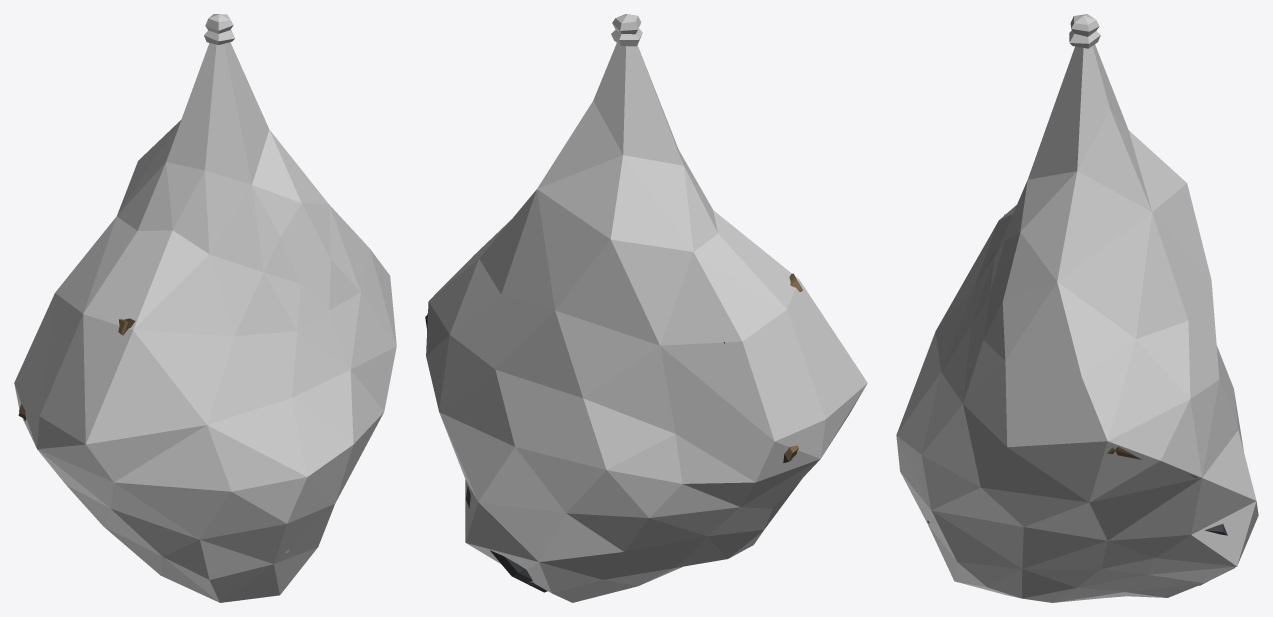
Rendered from SM_Prop_Net_06.fbx.
3 views of the same model, side by side, from view 1: azimuth 30°, elevation 25°; view 2: azimuth 150°, elevation 25°; view 3: azimuth 270°, elevation 25° (orthographic). The views are drawn at different scales.
Parts seen in each view (by area): view 1: SM_Prop_Net_06; view 2: SM_Prop_Net_06; view 3: SM_Prop_Net_06.
Part boxes in pixels (left/top/right/bottom): SM_Prop_Net_06: left=14, top=14, right=396, bottom=602; SM_Prop_Net_06: left=425, top=14, right=867, bottom=602; SM_Prop_Net_06: left=896, top=14, right=1258, bottom=602.
Bounding box in the file's own units: 212 × 298 × 171.
